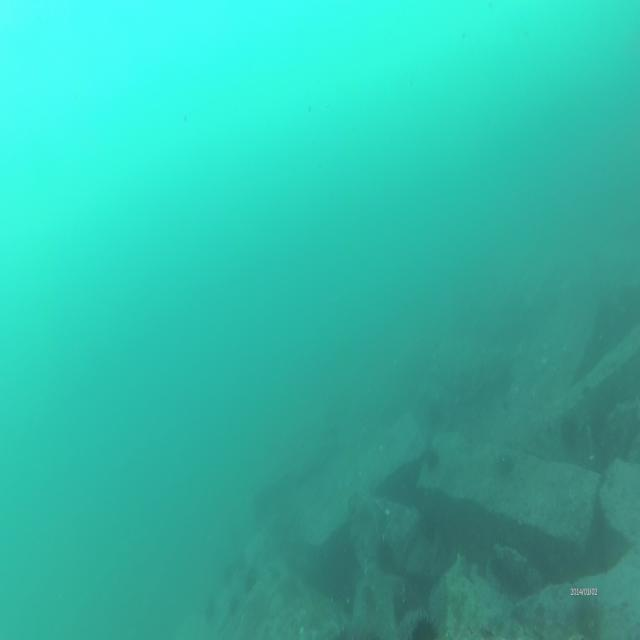echinus: (568, 598, 603, 633), (405, 616, 436, 640), (493, 447, 518, 474), (372, 543, 393, 570), (560, 419, 578, 447), (424, 445, 440, 467)
